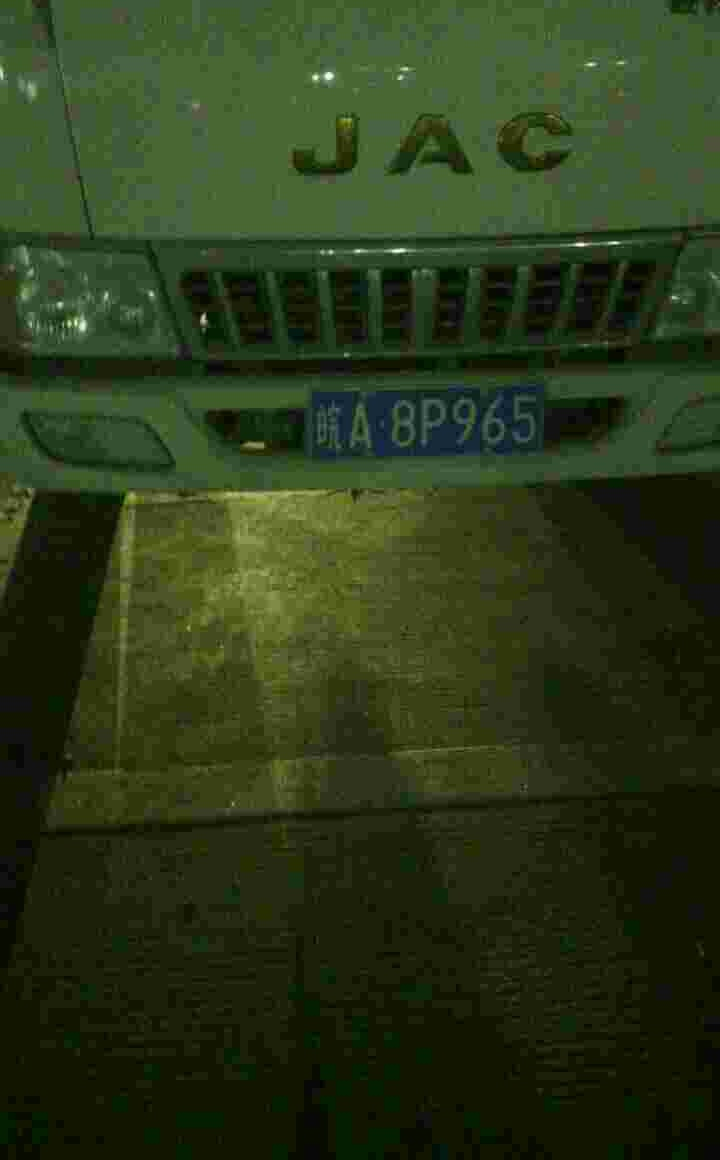plate: (311, 379, 551, 466)
